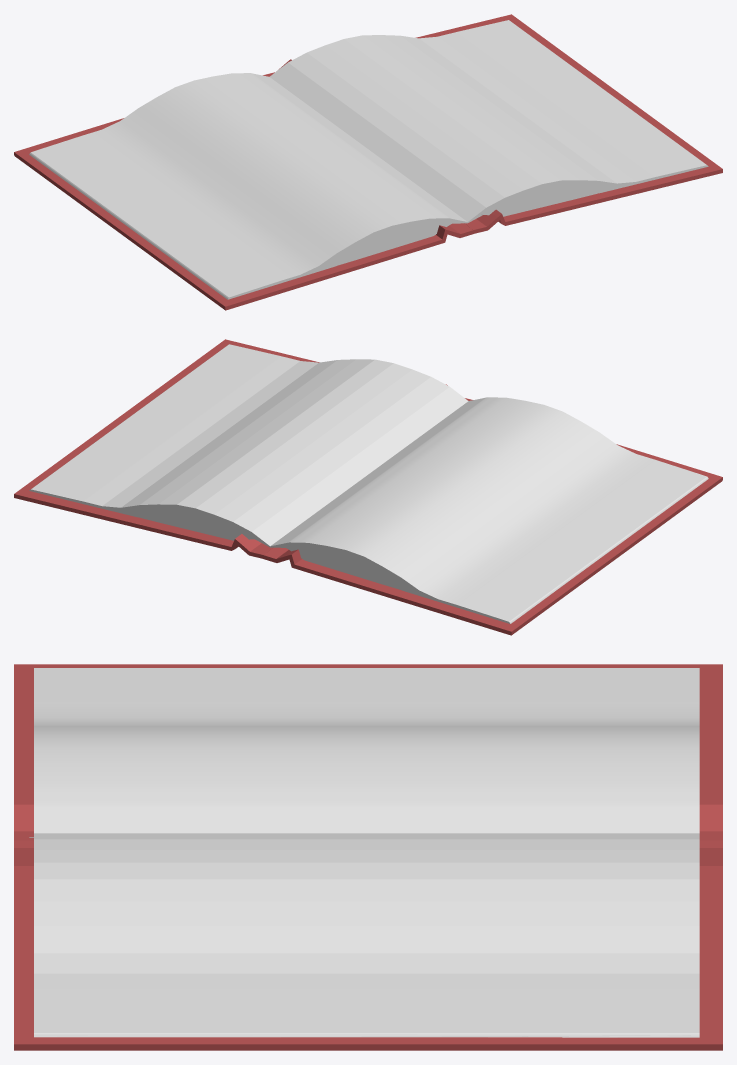
Rendered from Book Cover.fbx.
3 views of the same model, one above another, from view 1: azimuth 30°, elevation 25°; view 2: azimuth 150°, elevation 25°; view 3: azimuth 270°, elevation 25° (orthographic). The views are drawn at different scales.
Visible parts, largest first — view 1: polySurface26, polySurface27; view 2: polySurface26, polySurface27; view 3: polySurface27, polySurface26.
Boxes of the visible parts, x1,y1,x2,y2 form: polySurface26: [14, 73, 474, 310]; polySurface27: [263, 14, 722, 233]; polySurface26: [262, 397, 722, 635]; polySurface27: [14, 339, 472, 558]; polySurface27: [14, 833, 722, 1050]; polySurface26: [14, 664, 722, 840].
Bounding box in the file's own units: 26.62 × 2.22 × 19.58.
